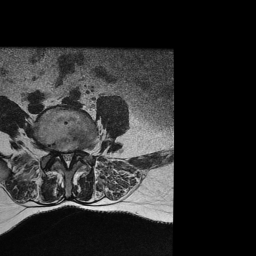CCS_normal: (65, 148, 70, 172)
LFS_severe_stenosis: (73, 144, 79, 159)
LLS_severe_stenosis: (70, 148, 74, 164)
RFS_severe_stenosis: (54, 145, 59, 160)
RLS_severe_stenosis: (59, 147, 65, 164)
